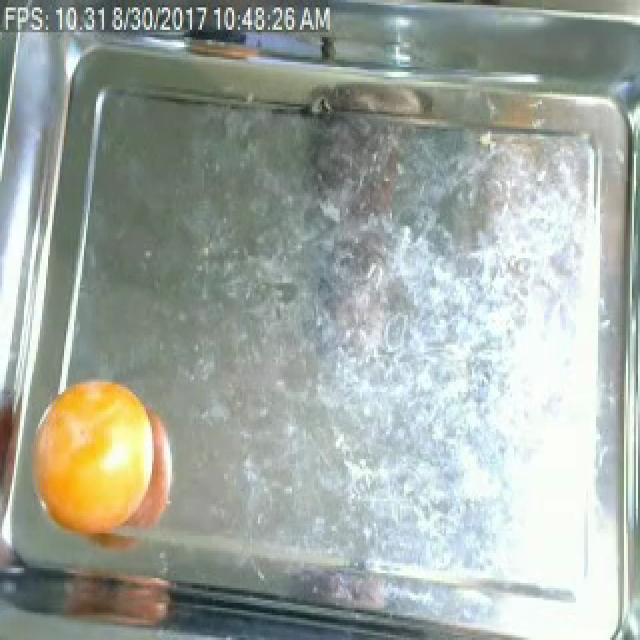Fruit: (28, 367, 162, 541)
